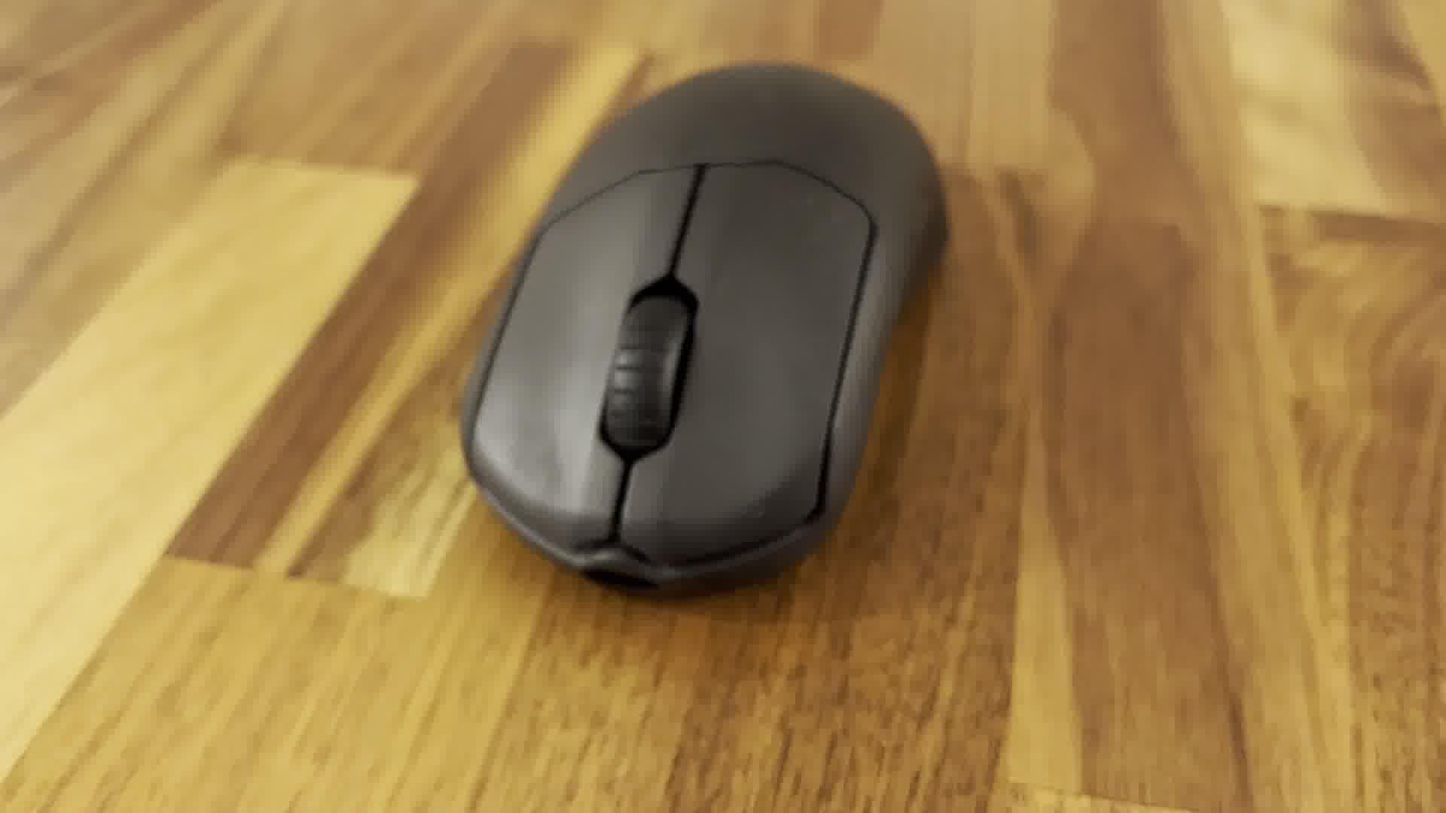steel-series: (454, 54, 951, 603)
